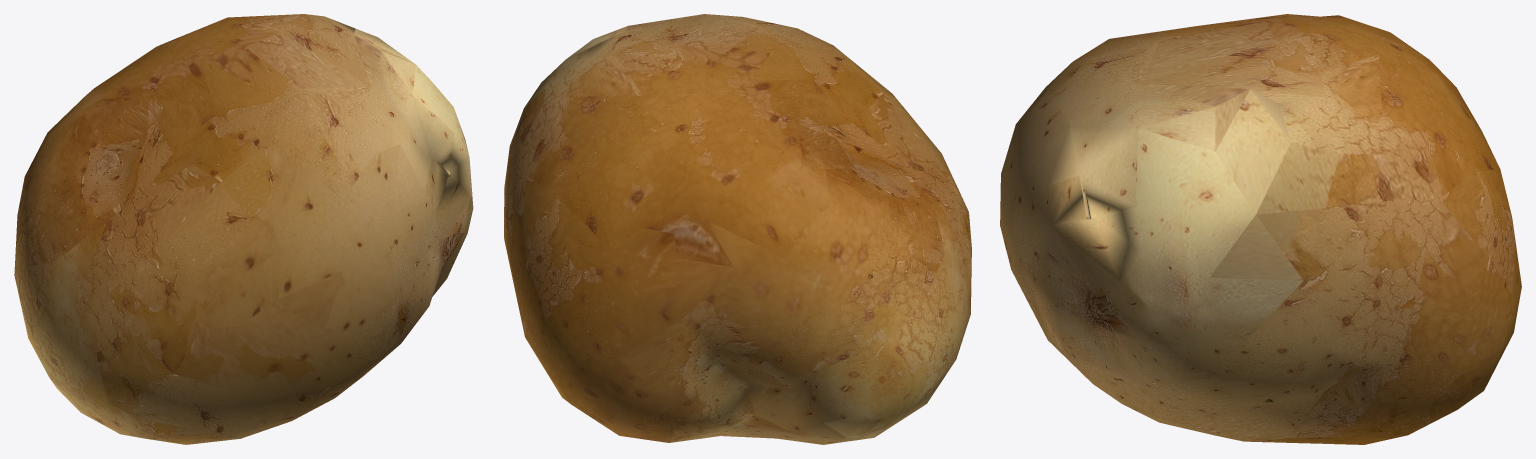
File: Potato.fbx
The picture shows the model from 3 angles, left to right: view 1: azimuth 30°, elevation 25°; view 2: azimuth 150°, elevation 25°; view 3: azimuth 270°, elevation 25°; orthographic projection. The views are drawn at different scales.
Parts seen in each view (by area): view 1: potato; view 2: potato; view 3: potato.
Boxes of the visible parts, x1,y1,x2,y2 form: potato: (14, 14, 473, 444); potato: (504, 14, 971, 444); potato: (1000, 14, 1521, 444).
Size of the model in its own units: 227 by 190 by 214.
